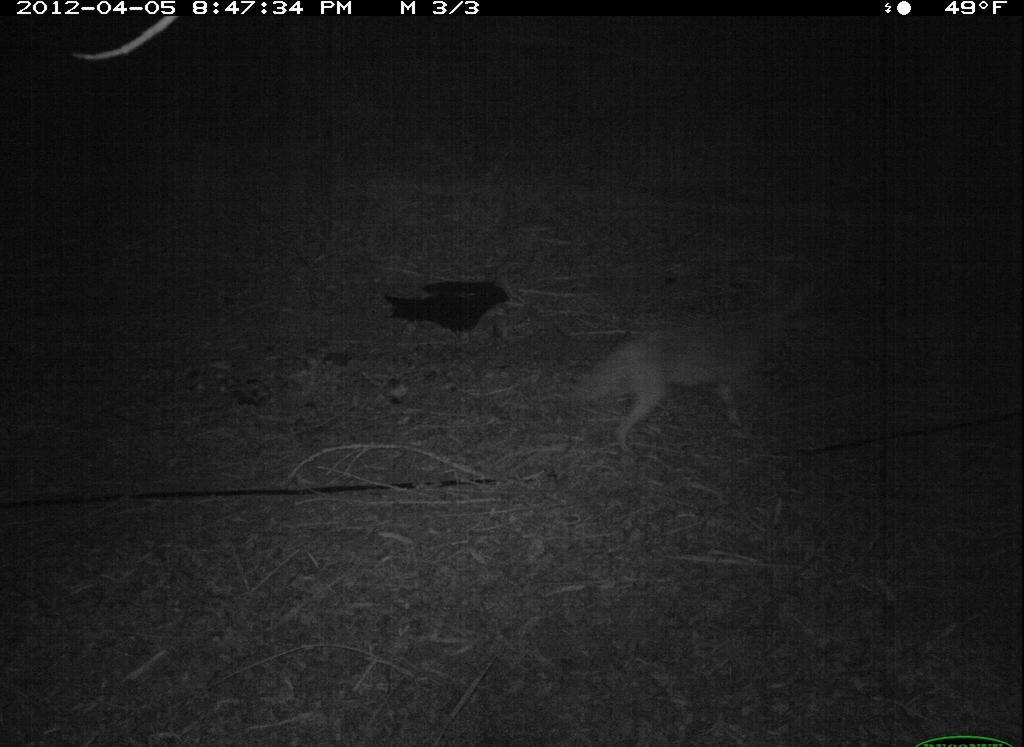coyote: (562, 262, 829, 465)
